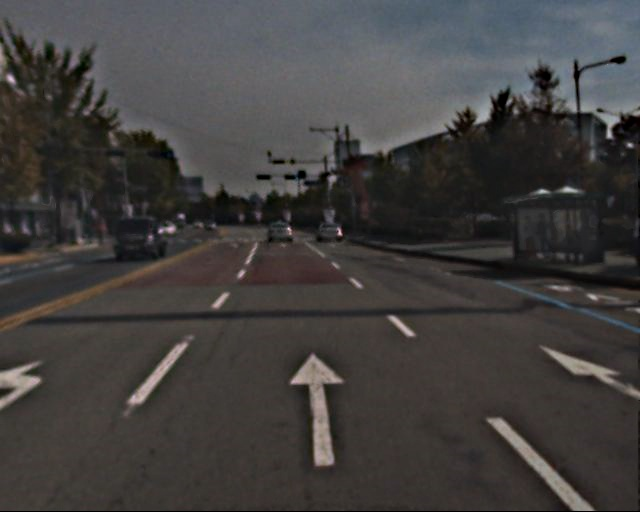person: (517, 216, 581, 263), (618, 211, 638, 272)
